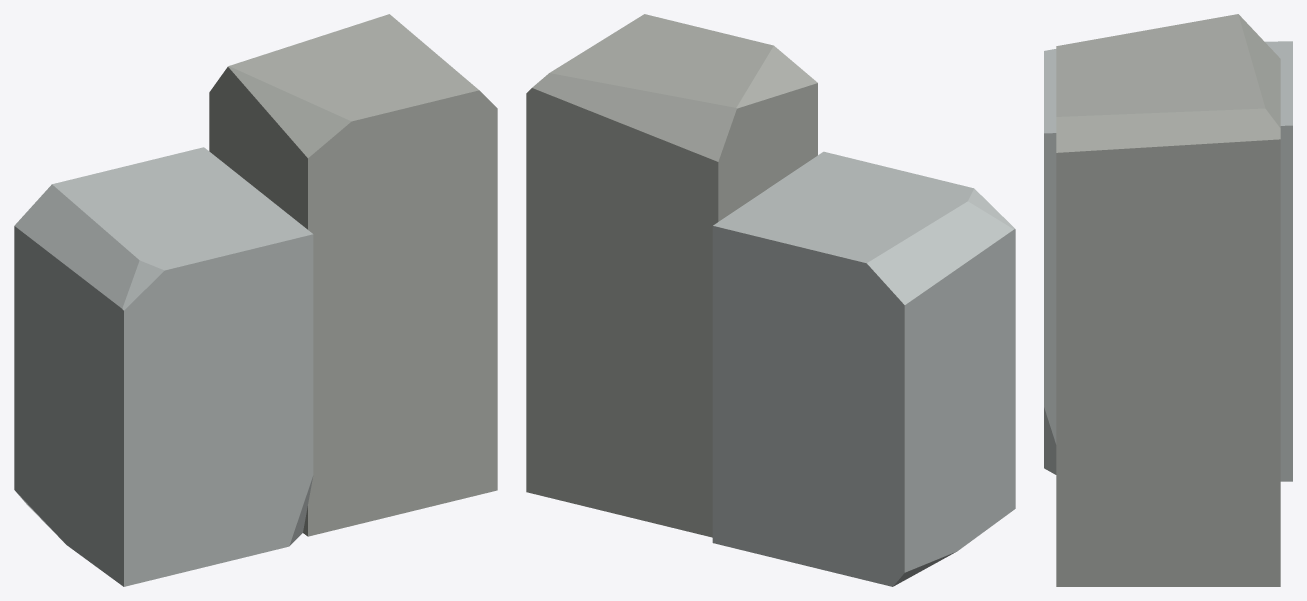
The model's file is Rocks_Square_m_05.fbx.
3 views of the same model, side by side, from view 1: azimuth 30°, elevation 25°; view 2: azimuth 150°, elevation 25°; view 3: azimuth 270°, elevation 25° (orthographic). The views are drawn at different scales.
Visible parts, largest first — view 1: Rocks_Square_m_05; view 2: Rocks_Square_m_05; view 3: Rocks_Square_m_05.
Boxes of the visible parts, x1,y1,x2,y2 form: Rocks_Square_m_05: (14, 14, 497, 586); Rocks_Square_m_05: (526, 14, 1015, 586); Rocks_Square_m_05: (1044, 14, 1292, 586).
Size of the model in its own units: 86.4 by 89.91 by 43.2.
